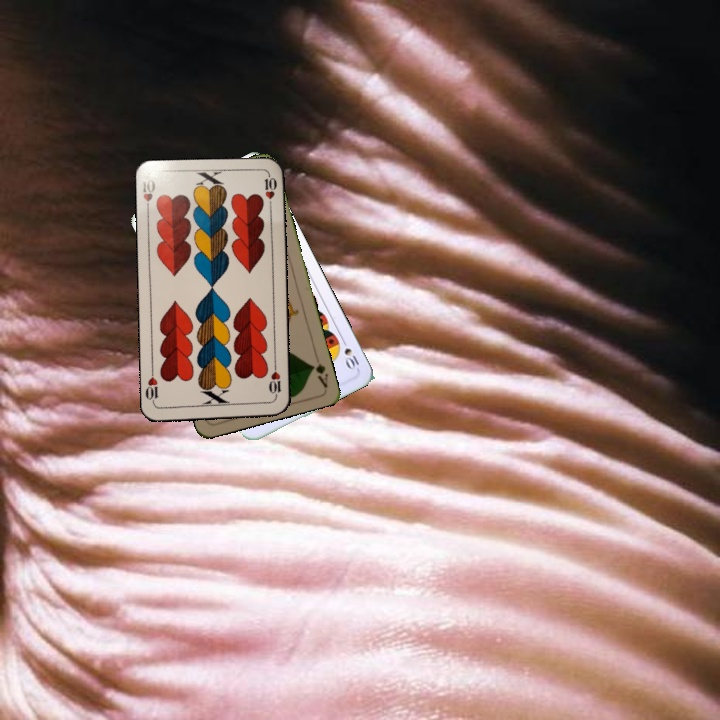GA: (307, 360, 330, 390)
H10: (139, 175, 159, 216), (265, 361, 283, 401)
S10: (333, 334, 363, 373)
